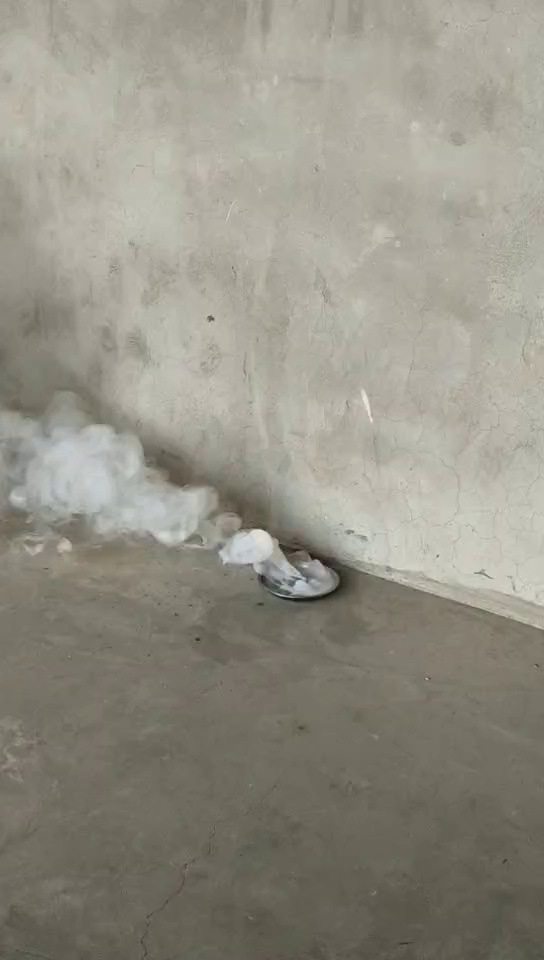yanwu: (33, 394, 285, 584)
